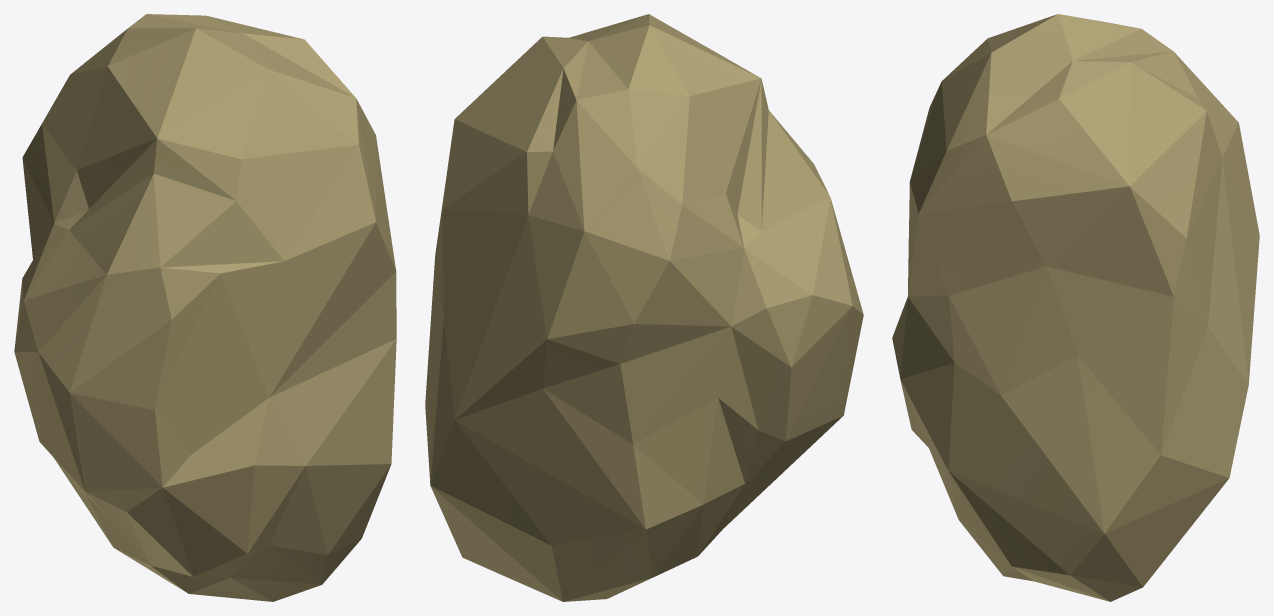
The model's file is SM_small_rock_58.fbx.
3 views of the same model, side by side, from view 1: azimuth 30°, elevation 25°; view 2: azimuth 150°, elevation 25°; view 3: azimuth 270°, elevation 25° (orthographic). The views are drawn at different scales.
Parts seen in each view (by area): view 1: small_rock_58; view 2: small_rock_58; view 3: small_rock_58.
Boxes of the visible parts, box(x1,y1,x2,y2) form: small_rock_58: box(14, 14, 396, 601); small_rock_58: box(425, 14, 863, 601); small_rock_58: box(892, 14, 1259, 601).
Bounding box in the file's own units: 115 × 172 × 106.
